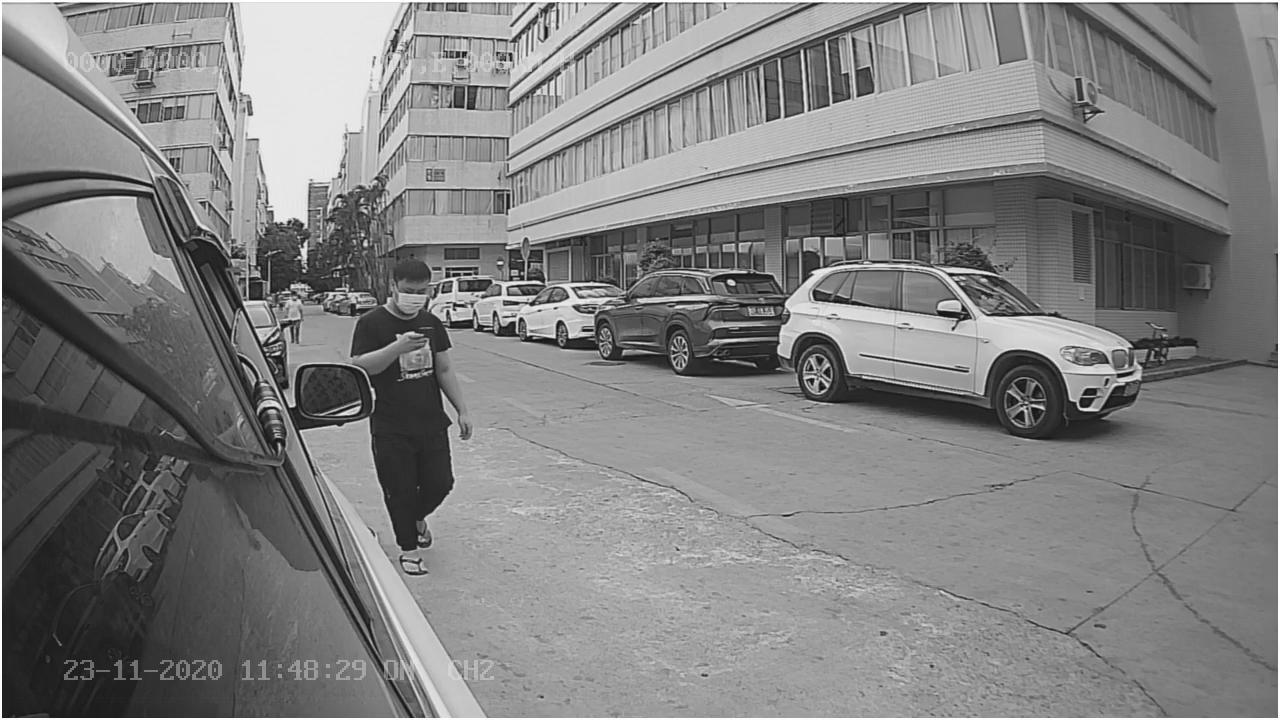person: (350, 256, 462, 367)
